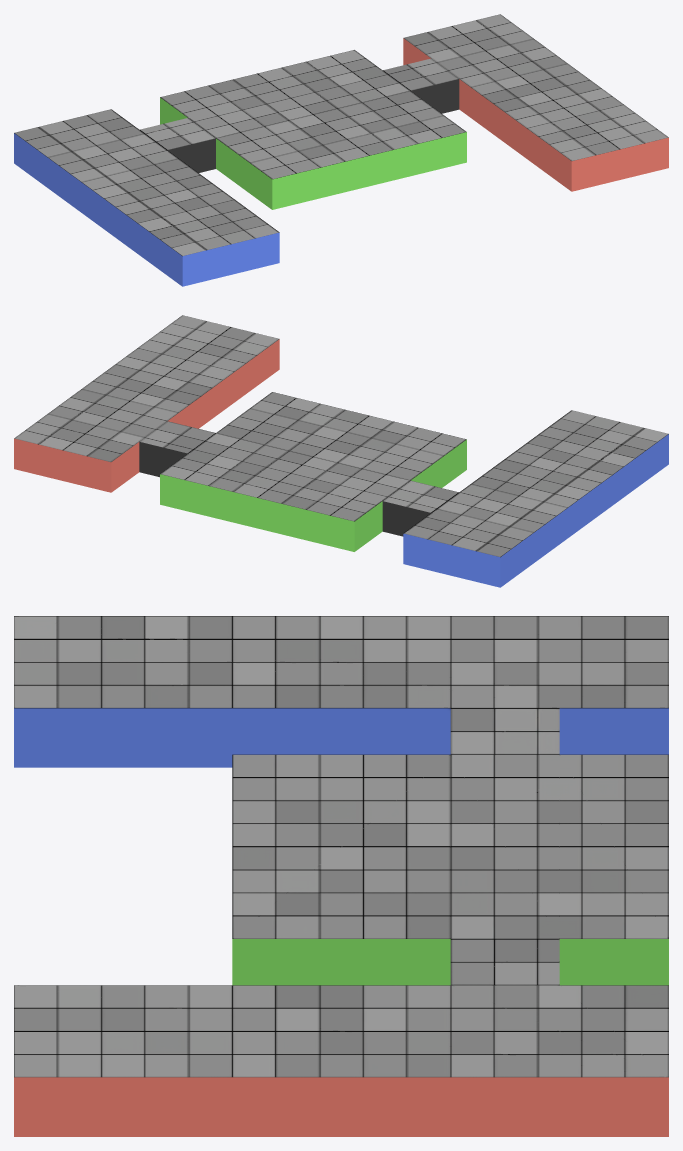
File: room.glb
3 renders of one model, top to bottom at view 1: azimuth 30°, elevation 25°; view 2: azimuth 150°, elevation 25°; view 3: azimuth 270°, elevation 25°, orthographic. The views are drawn at different scales.
Visible parts, largest first — view 1: Cube; view 2: Cube; view 3: Cube.
Boxes of the visible parts, <box> form: Cube: <box>14,14,668,286</box>; Cube: <box>14,315,668,587</box>; Cube: <box>14,616,668,1136</box>.
Bounding box in the file's own units: 50 × 3 × 30.
Materials: 1 (1 with a texture image).
